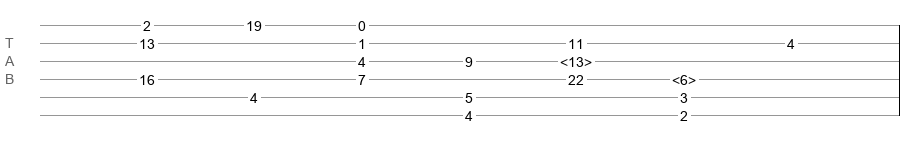0: (358, 18, 366, 28)
1: (358, 36, 366, 46)
11: (568, 36, 584, 46)
13: (139, 36, 155, 46)
16: (139, 72, 155, 82)
19: (246, 18, 262, 28)
2: (143, 18, 151, 28), (680, 108, 688, 118)
22: (568, 72, 584, 82)
3: (680, 90, 688, 100)
4: (250, 90, 258, 100), (358, 54, 366, 64), (465, 108, 473, 118), (787, 36, 795, 46)
5: (465, 90, 473, 100)
7: (358, 72, 366, 82)
9: (465, 54, 473, 64)
harmonic: (560, 54, 592, 64), (672, 72, 696, 82)
